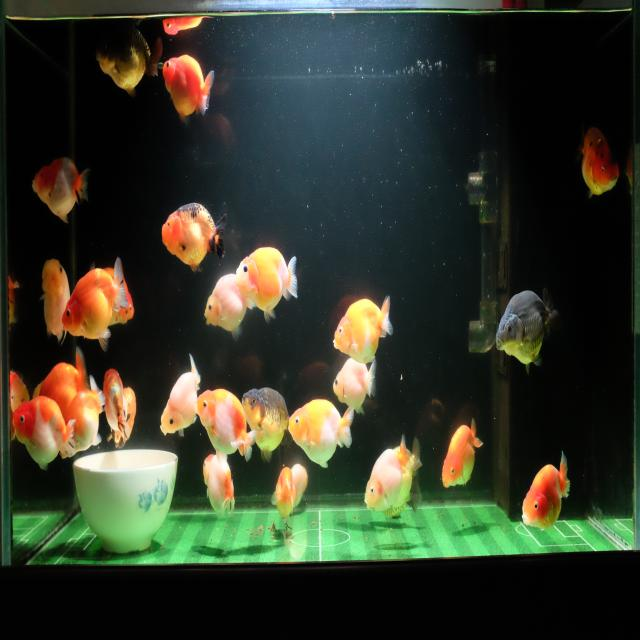Goldfish: (60, 255, 129, 354), (494, 284, 562, 374), (193, 383, 259, 468), (91, 20, 162, 99), (234, 240, 299, 326), (161, 198, 227, 281), (12, 392, 78, 473), (288, 396, 356, 471), (331, 292, 394, 366), (520, 449, 572, 536), (31, 153, 92, 227), (241, 382, 296, 462), (58, 375, 107, 462), (161, 50, 215, 126), (362, 432, 411, 514), (202, 271, 256, 343), (578, 120, 622, 205), (38, 344, 88, 414), (440, 416, 485, 490), (37, 256, 71, 348), (332, 354, 378, 416), (200, 452, 238, 523), (390, 433, 423, 508), (101, 363, 130, 444), (110, 383, 138, 448), (272, 466, 297, 524), (8, 362, 30, 416), (289, 463, 311, 512)
